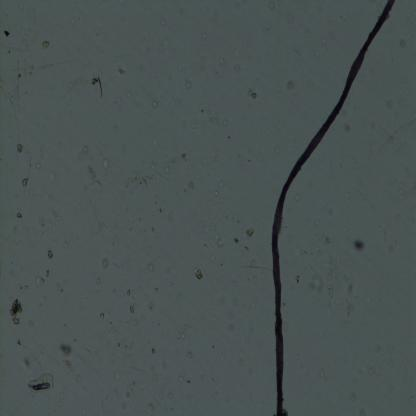Background material: (128, 162, 171, 194), (27, 372, 54, 393), (8, 296, 24, 328), (85, 167, 103, 193), (308, 271, 326, 295), (155, 31, 172, 51), (91, 72, 103, 100), (26, 2, 36, 30), (351, 237, 366, 254), (59, 341, 74, 356), (180, 75, 194, 91), (62, 358, 76, 374), (4, 90, 17, 105), (78, 144, 90, 159), (48, 168, 58, 184), (192, 267, 204, 280), (100, 158, 111, 172), (326, 284, 336, 299), (114, 65, 127, 76), (212, 112, 222, 126), (50, 211, 61, 223), (245, 224, 254, 238), (100, 257, 110, 269), (186, 179, 196, 191), (22, 356, 30, 370), (346, 284, 354, 298), (34, 277, 44, 288), (146, 298, 155, 310), (249, 90, 258, 102), (14, 72, 26, 81), (40, 40, 50, 50), (285, 80, 294, 91), (217, 238, 228, 247), (233, 236, 241, 247), (114, 370, 122, 381), (22, 175, 28, 189), (294, 274, 301, 286), (17, 143, 24, 155), (187, 350, 196, 359), (150, 100, 159, 109), (209, 252, 217, 262), (128, 305, 136, 315), (95, 275, 103, 285), (16, 210, 23, 221), (47, 249, 54, 260), (99, 311, 106, 321), (213, 188, 220, 198), (179, 373, 185, 384), (147, 403, 154, 412), (150, 264, 156, 274), (182, 329, 187, 341), (35, 160, 42, 168), (180, 153, 187, 161), (150, 346, 157, 354), (326, 236, 332, 245), (4, 29, 10, 38), (151, 224, 156, 233), (127, 289, 132, 298), (244, 245, 250, 252)
Cotton: (272, 0, 398, 416)
